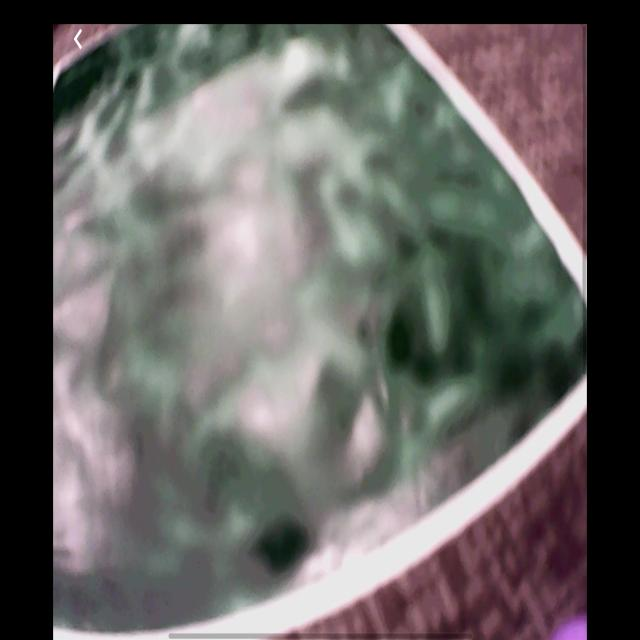ball: (554, 616, 587, 640)
